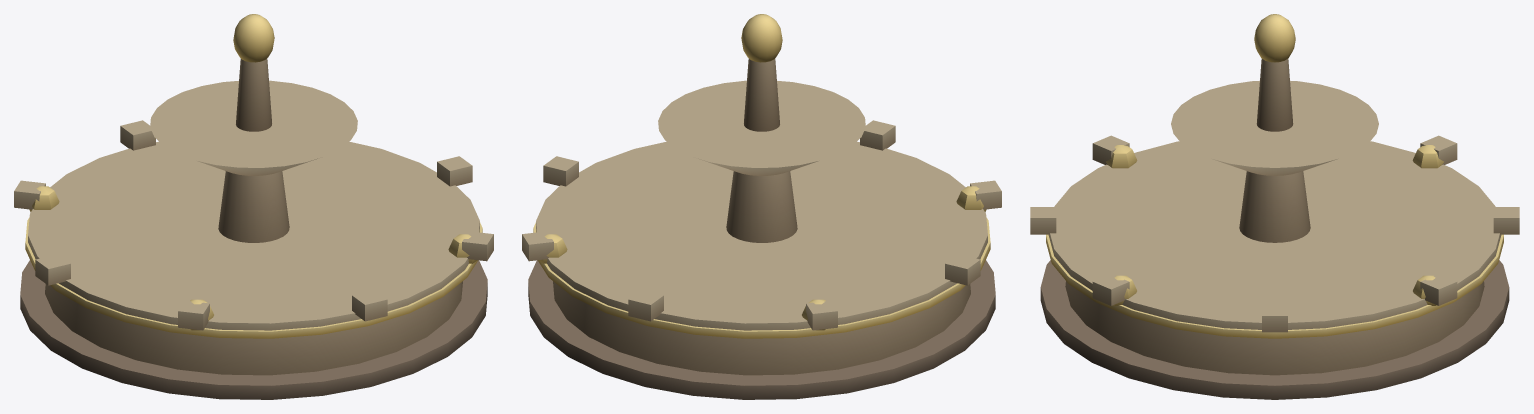
File: plaza_Fountain_b.glb
3 views of the same model, side by side, from view 1: azimuth 30°, elevation 25°; view 2: azimuth 150°, elevation 25°; view 3: azimuth 270°, elevation 25° (orthographic).
Parts seen in each view (by area): view 1: Fountain; view 2: Fountain; view 3: Fountain.
Part boxes in pixels (<box>): Fountain: <box>14,14,493,399</box>; Fountain: <box>522,14,1001,399</box>; Fountain: <box>1030,14,1519,399</box>.
Size of what is drawn, in the model's own units: 3.76 by 2.42 by 3.76.
Materials: 1 (1 with a texture image).
